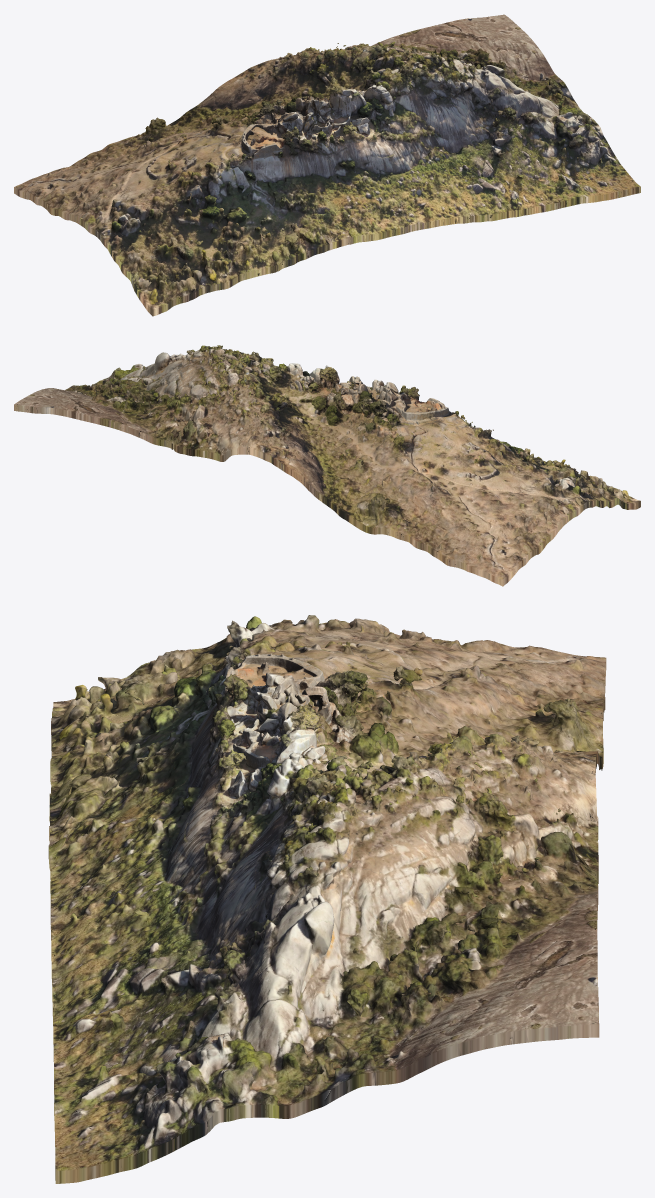
Rendered from colline-bureau.glb.
3 views of the same model, one above another, from view 1: azimuth 30°, elevation 25°; view 2: azimuth 150°, elevation 25°; view 3: azimuth 270°, elevation 25° (orthographic). The views are drawn at different scales.
Visible parts, largest first — view 1: colline; view 2: colline; view 3: colline.
Part boxes in pixels (box(x1,y1,x2,y2)): colline: box(14, 14, 640, 316); colline: box(14, 345, 640, 586); colline: box(48, 615, 606, 1183).
Size of the model in its own units: 491 by 126 by 242.
Materials: 3 (3 with a texture image).
